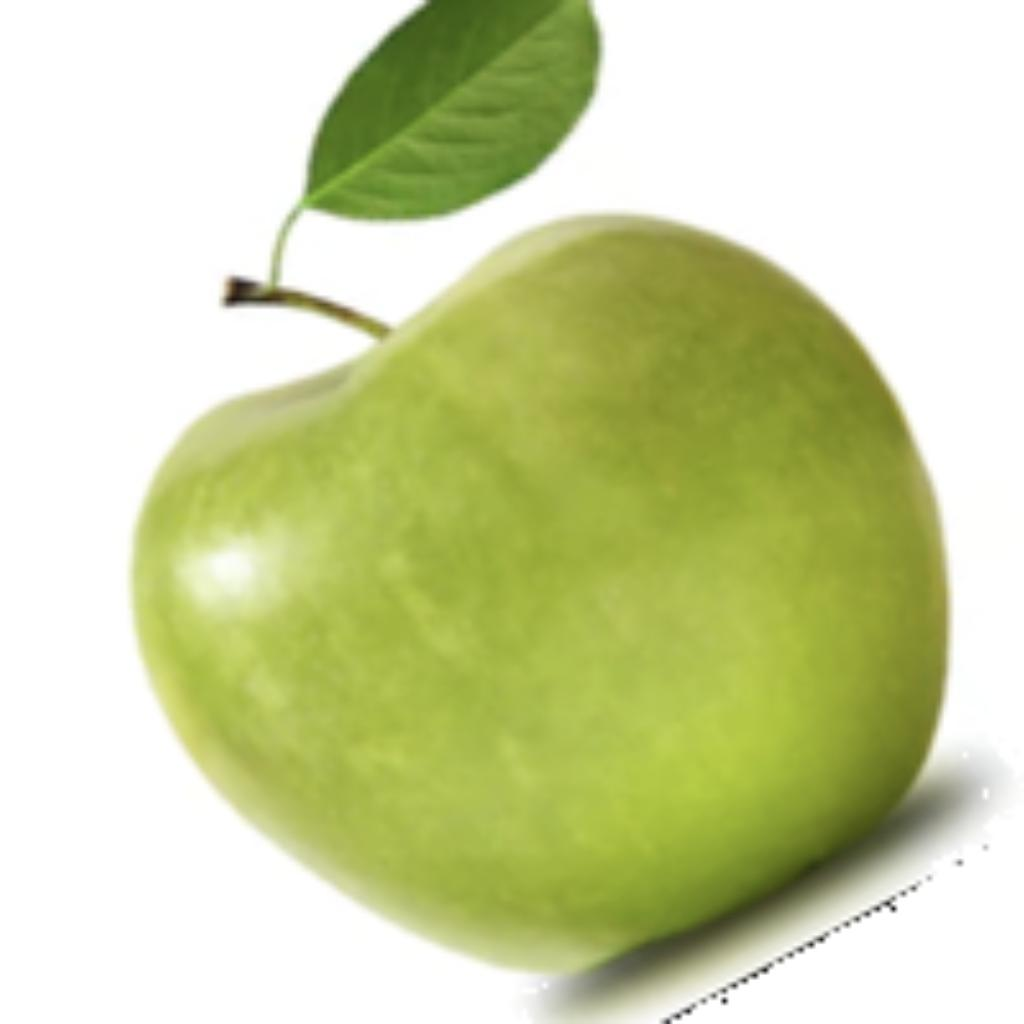apple: (123, 0, 1019, 1019)
